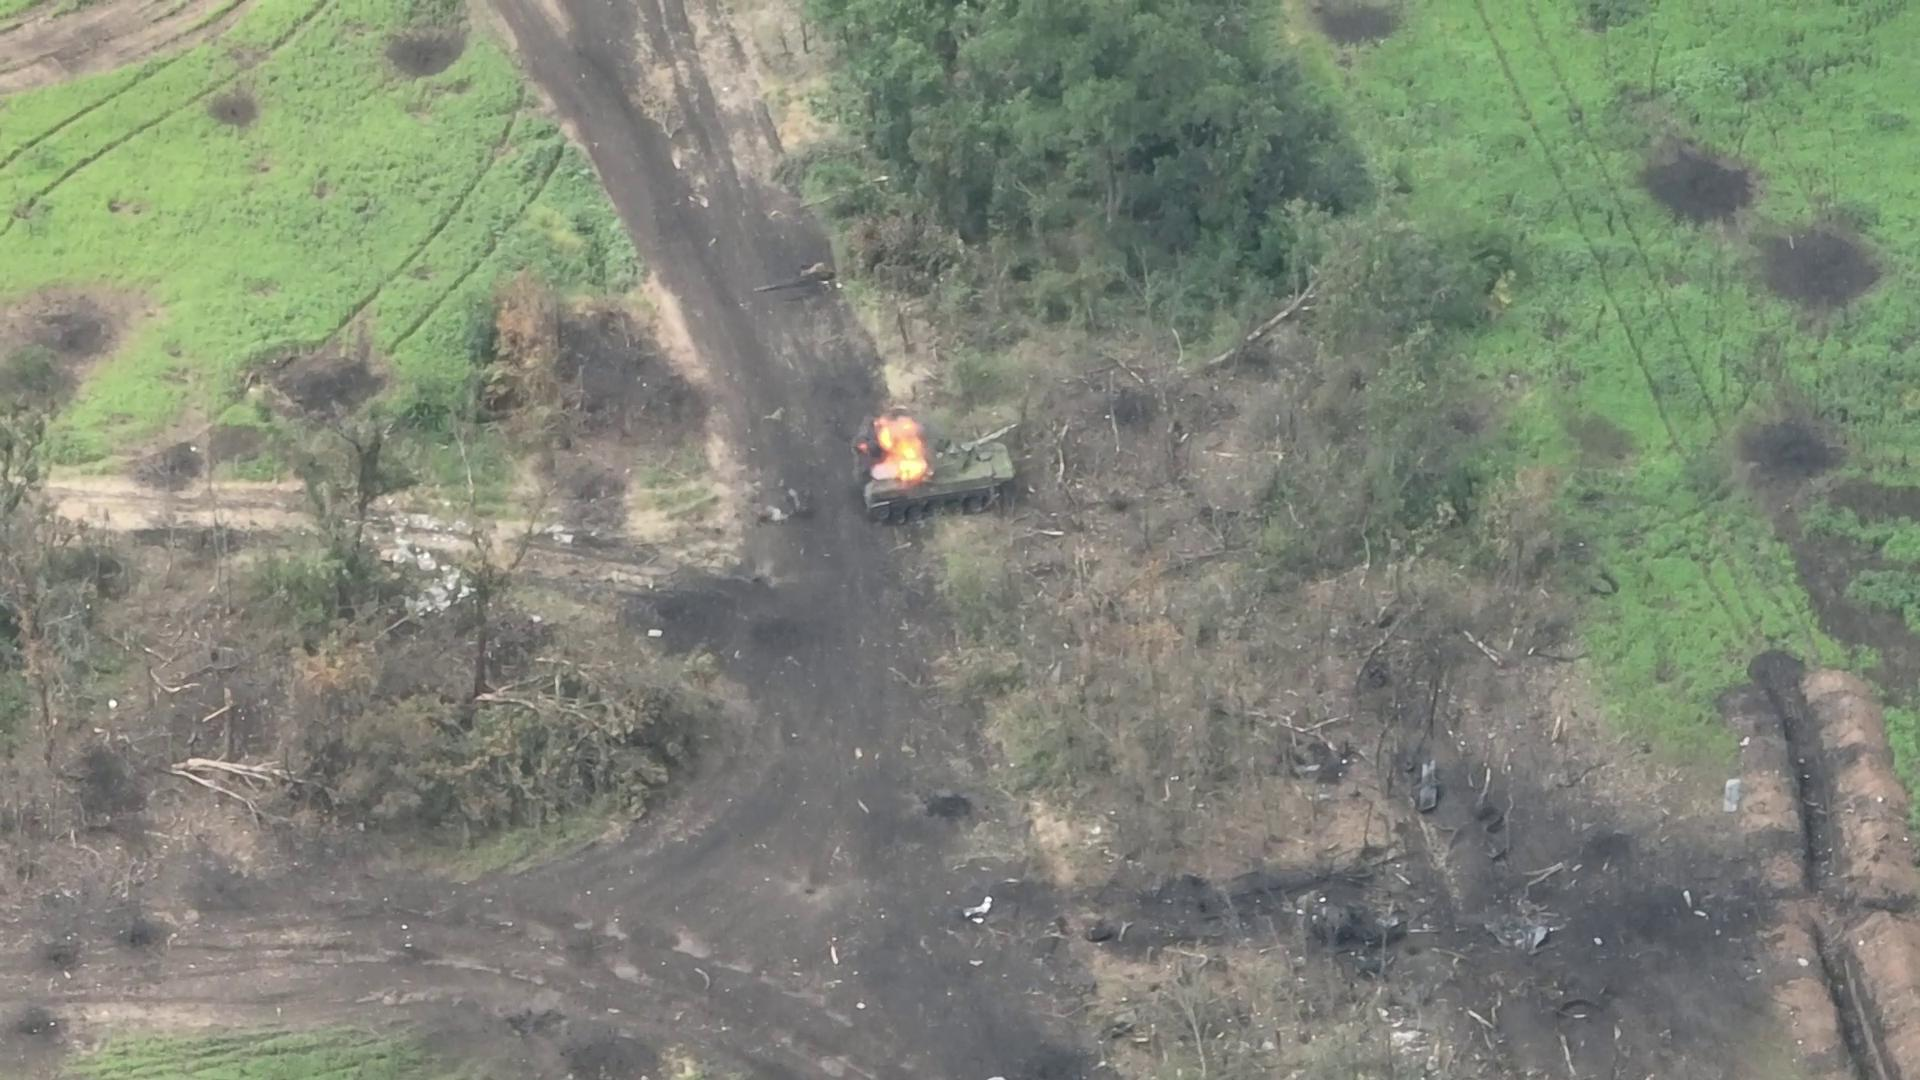tank: (857, 419, 1022, 527)
